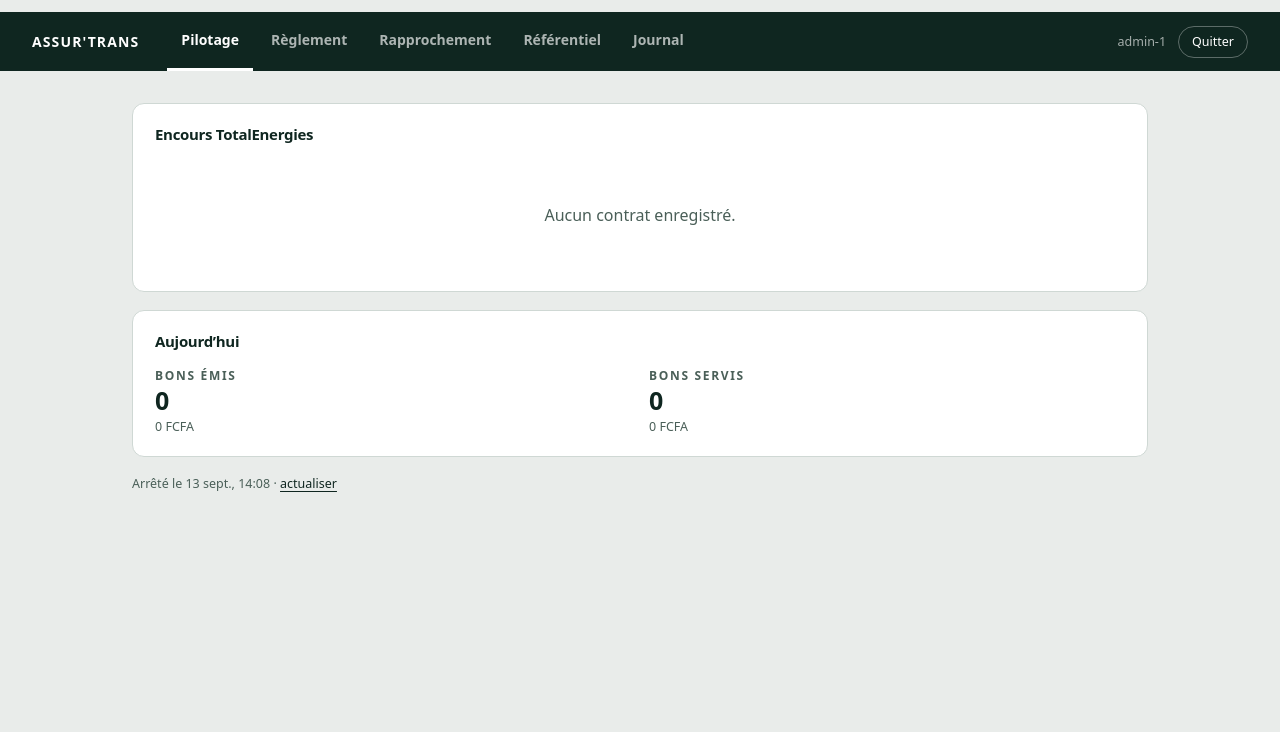
Test: factures › dit d’où part un règlement quand il n’y a aucune facture
The image size is (1280, 732).
Click the button "Règlement": [309, 42] box [257,12,361,71]
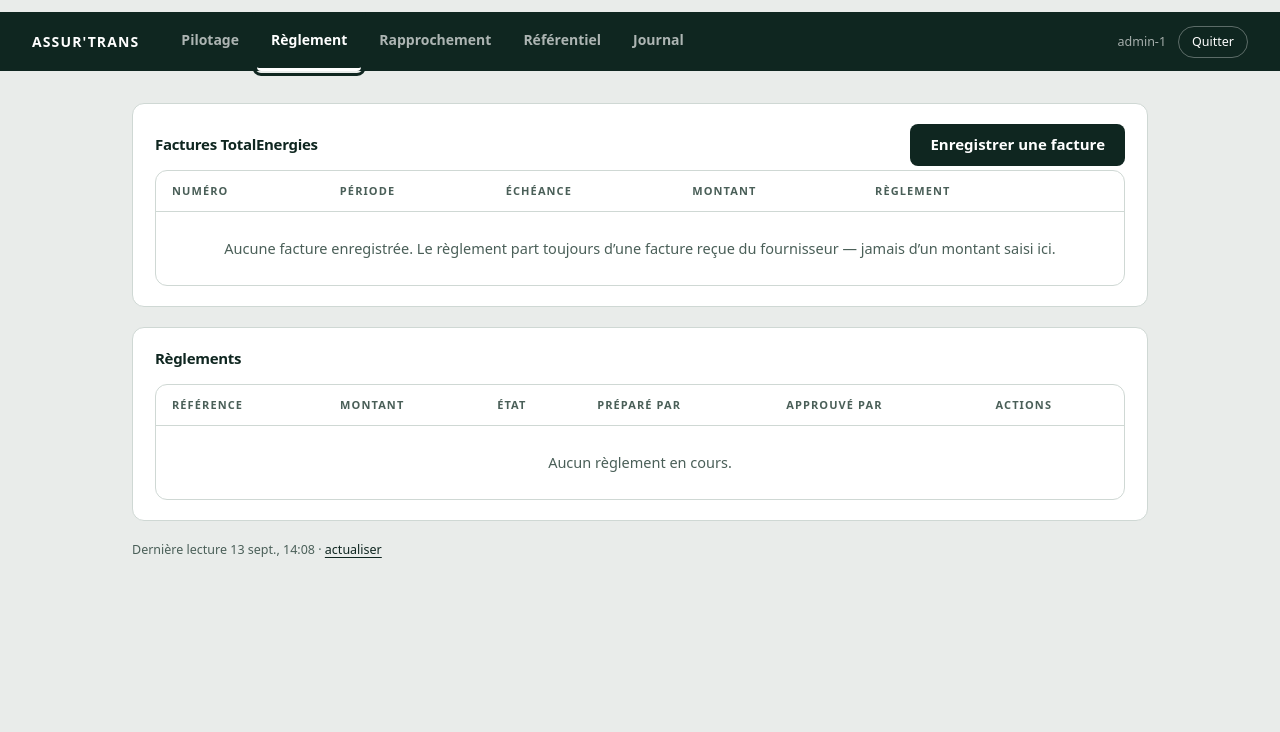
Expected: the text "Aucune facture enregistrée" shows "jamais d’un montant saisi ici", [224,238,1056,258]
